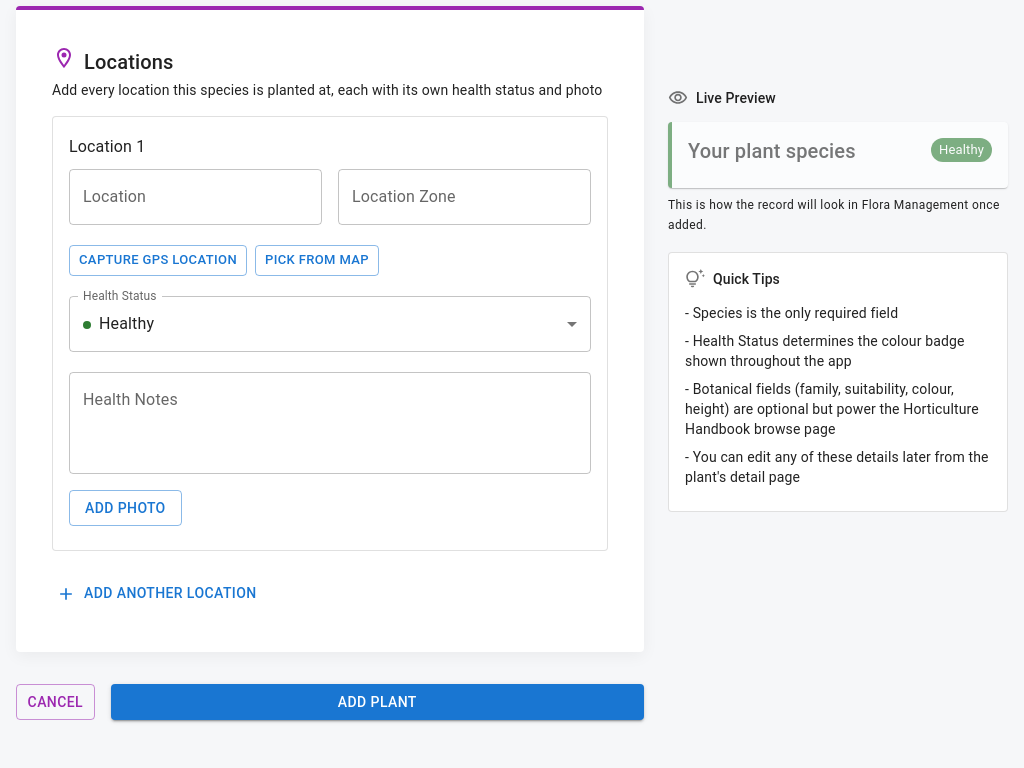
AddFlora › adds a second location card when "Add Another Location" is clicked
(page scrolled)
Click the button "Add Another Location" at point(158, 594), box 52,575 -> 265,612
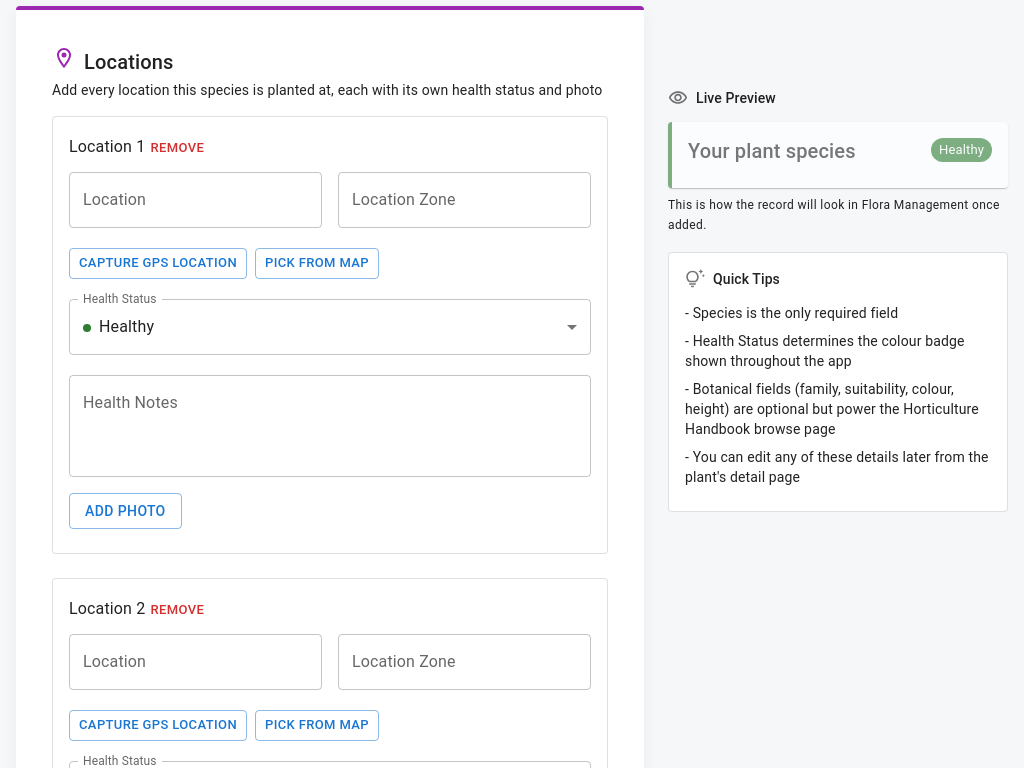
Check: the heading "Location 2" is shown, box 69,595 -> 145,626
